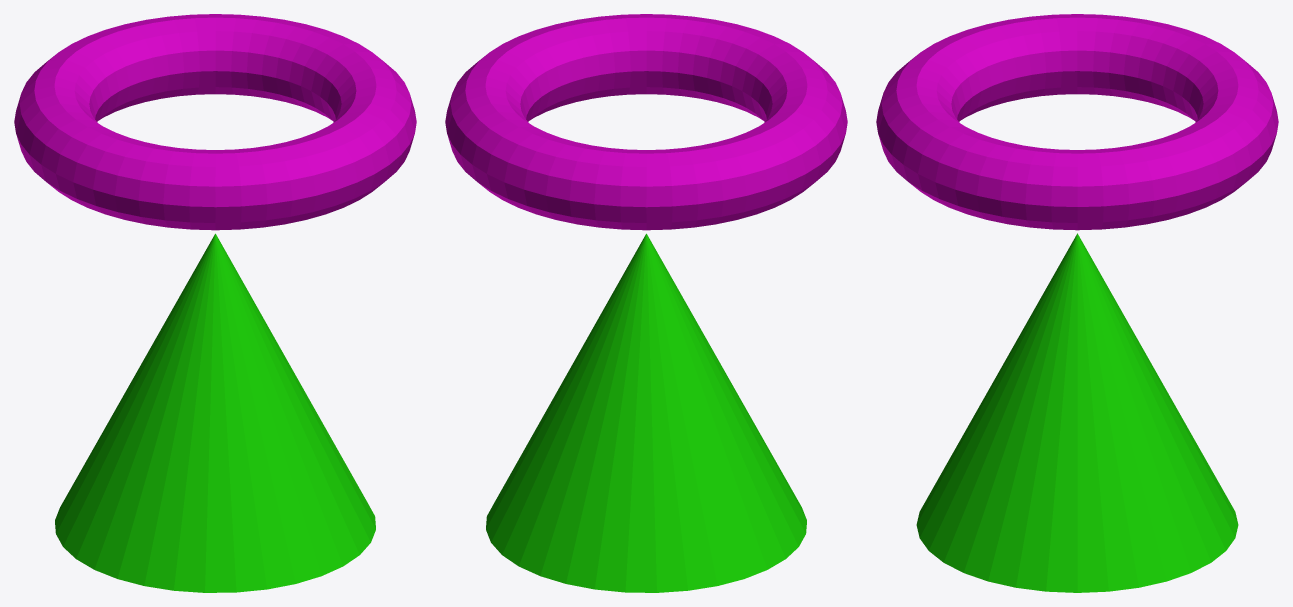
The picture shows the model from 3 angles, left to right: view 1: azimuth 30°, elevation 25°; view 2: azimuth 150°, elevation 25°; view 3: azimuth 270°, elevation 25°; orthographic projection.
Parts seen in each view (by area): view 1: Cone, Torus; view 2: Cone, Torus; view 3: Cone, Torus.
Part boxes in pixels (<box>): Cone: <box>55,233,375,592</box>; Torus: <box>14,14,416,230</box>; Cone: <box>486,233,806,592</box>; Torus: <box>445,14,847,230</box>; Cone: <box>916,233,1238,592</box>; Torus: <box>876,14,1278,230</box>.
Size of the model in its own units: 2.5 by 2.5 by 3.01.
